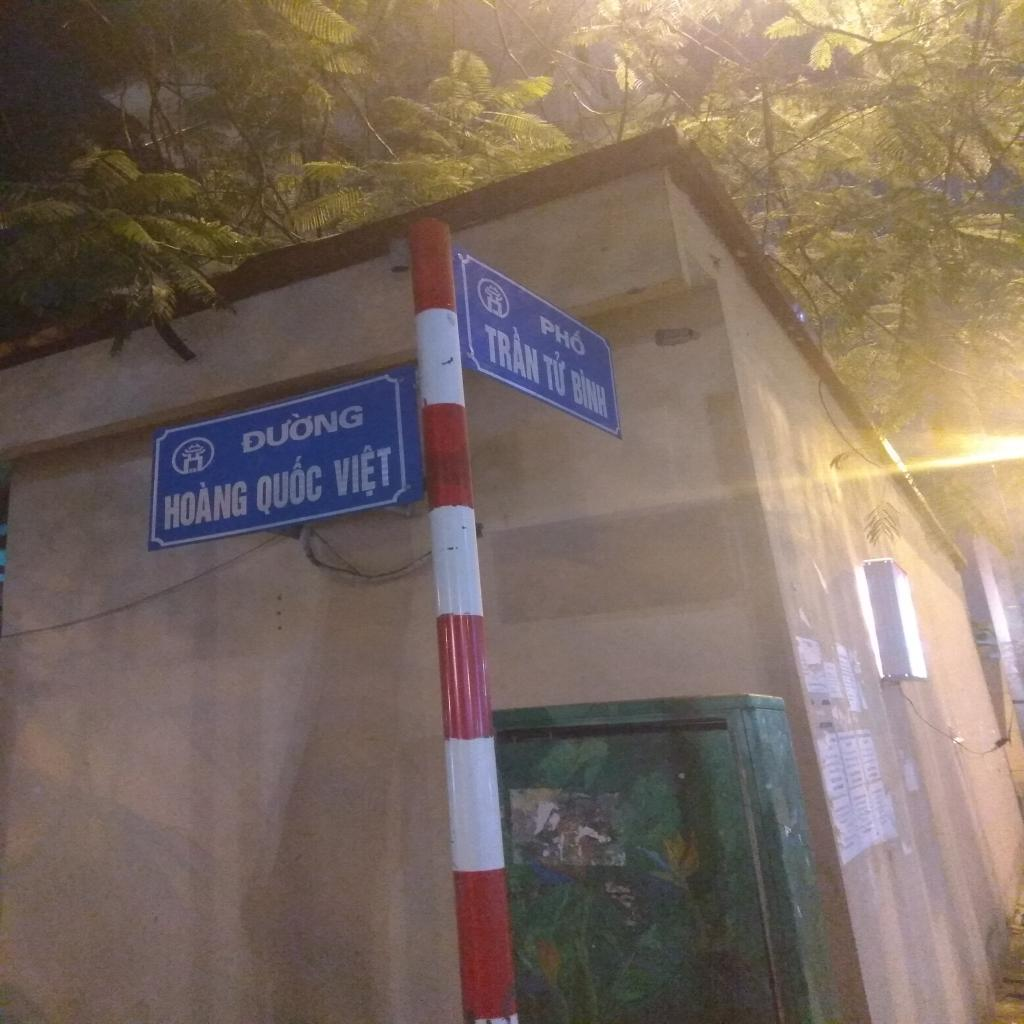text: (236, 394, 368, 457), (160, 474, 252, 533), (254, 448, 326, 520), (326, 438, 400, 503), (480, 311, 542, 388), (536, 308, 592, 359), (570, 362, 610, 420), (541, 343, 570, 400)
